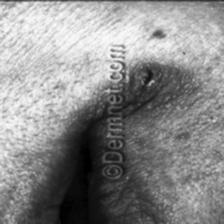Toxin: (123, 47, 185, 109)
